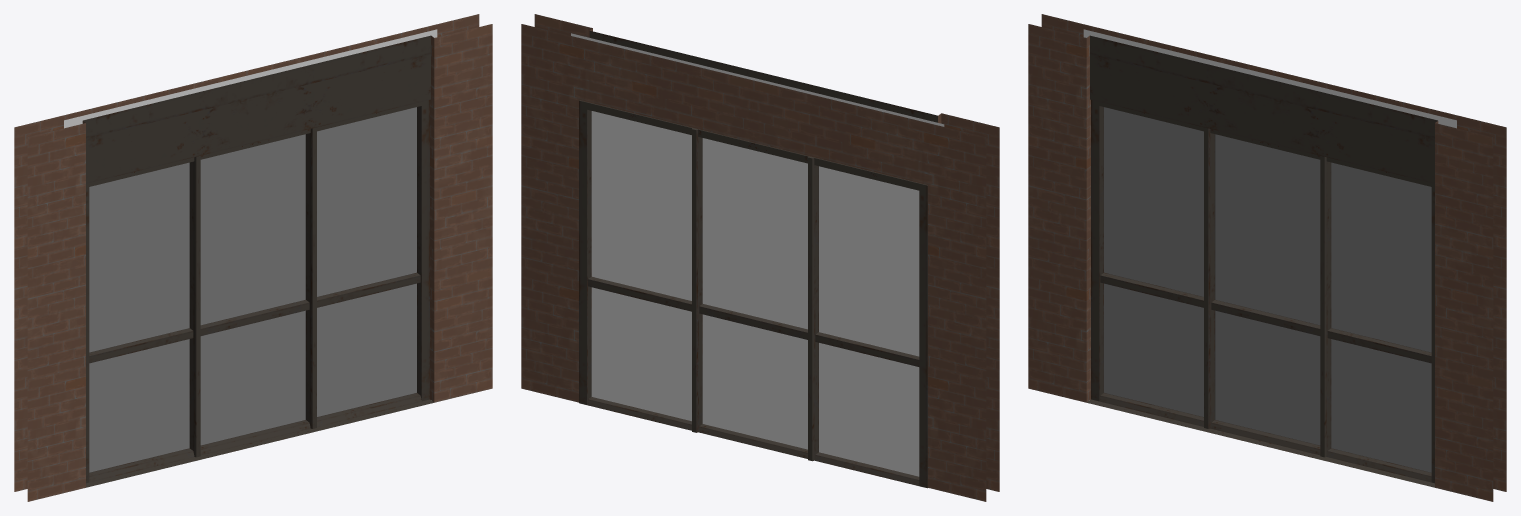
The model's file is metal_window.glb.
3 views of the same model, side by side, from view 1: azimuth 30°, elevation 25°; view 2: azimuth 150°, elevation 25°; view 3: azimuth 330°, elevation 25° (orthographic).
Parts seen in each view (by area): view 1: Metal_Window; view 2: Metal_Window; view 3: Metal_Window.
Part boxes in pixels (<box>): Metal_Window: <box>14,14,492,501</box>; Metal_Window: <box>521,14,999,501</box>; Metal_Window: <box>1028,14,1506,501</box>.
Bounding box in the file's own units: 4 × 3 × 0.2239.
5 materials, 3 textured.
